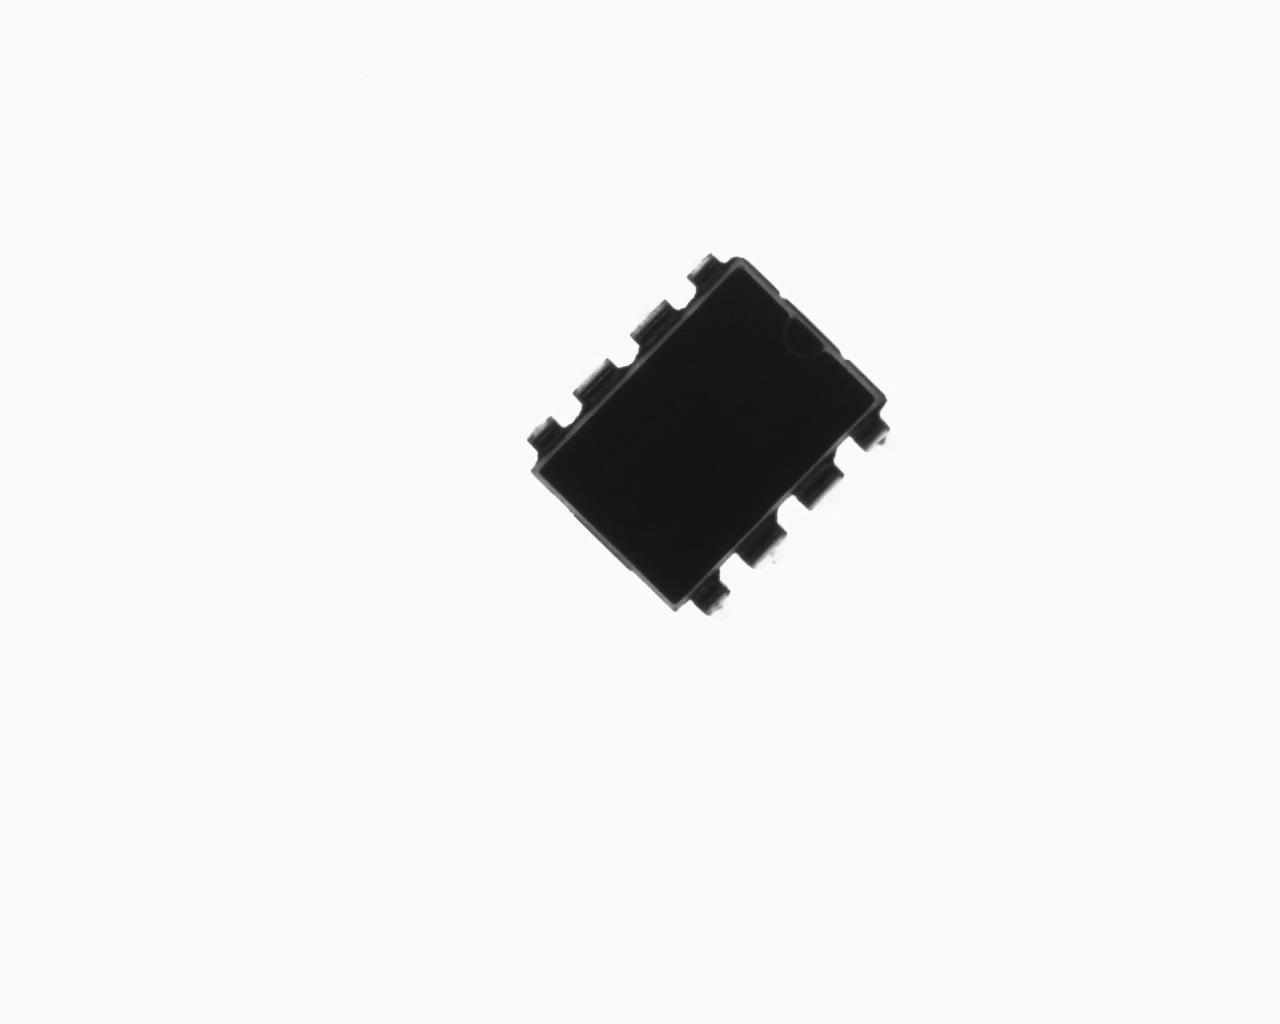Leg: (783, 461, 854, 513), (735, 519, 796, 572), (569, 357, 627, 408), (628, 296, 682, 346), (843, 415, 905, 455), (689, 567, 734, 618), (523, 414, 566, 461), (682, 248, 722, 288)
